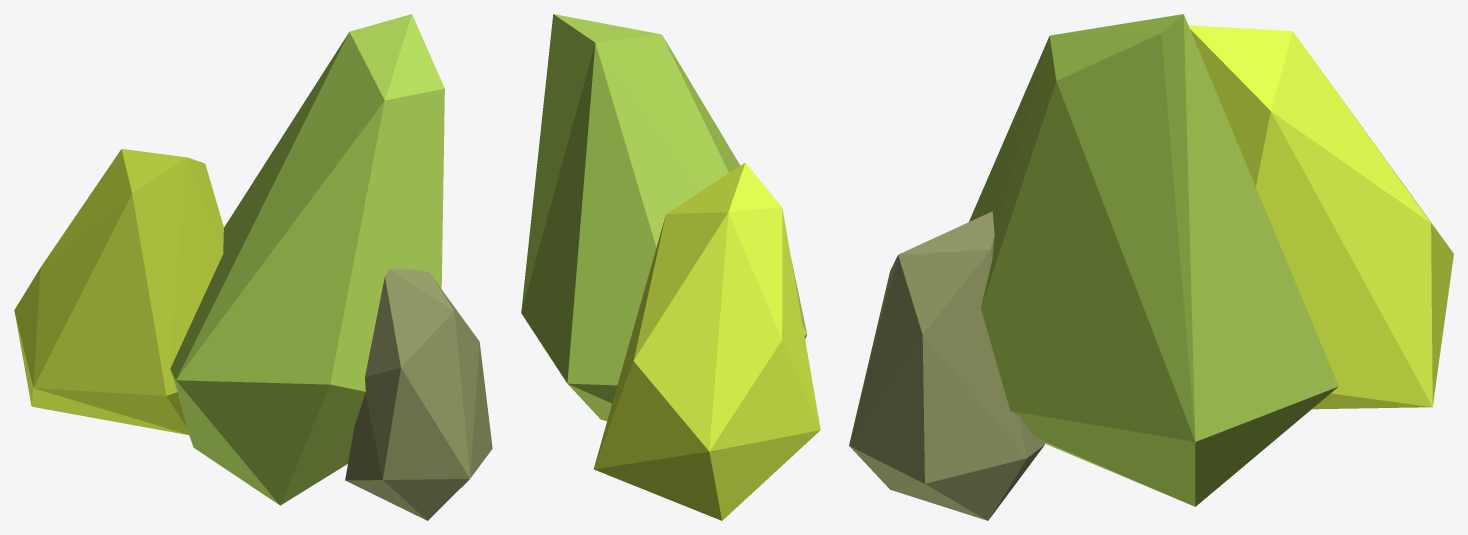
The model's file is Arbusto 1.fbx.
The picture shows the model from 3 angles, left to right: view 1: azimuth 30°, elevation 25°; view 2: azimuth 150°, elevation 25°; view 3: azimuth 270°, elevation 25°; orthographic projection. The views are drawn at different scales.
Visible parts, largest first — view 1: Arbusto3, Arbusto1, Arbusto2; view 2: Arbusto1, Arbusto3; view 3: Arbusto3, Arbusto1, Arbusto2.
Part boxes in pixels (box(x1,y1,x2,y2)): Arbusto3: box(170, 14, 444, 505); Arbusto1: box(14, 149, 223, 434); Arbusto2: box(345, 269, 492, 520); Arbusto1: box(593, 162, 820, 520); Arbusto3: box(521, 14, 807, 421); Arbusto3: box(969, 14, 1338, 506); Arbusto1: box(1188, 25, 1453, 409); Arbusto2: box(849, 211, 1044, 520).
Bounding box in the file's own units: 2144 × 2385 × 2524.
